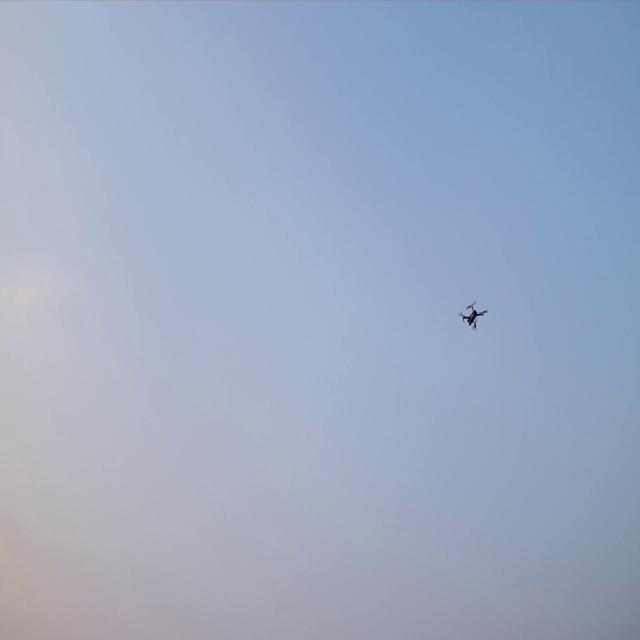UAV: (458, 298, 488, 332)
